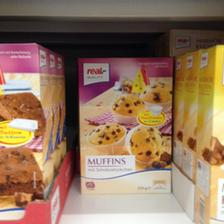Kuchen: (75, 55, 175, 198), (0, 42, 50, 210)
